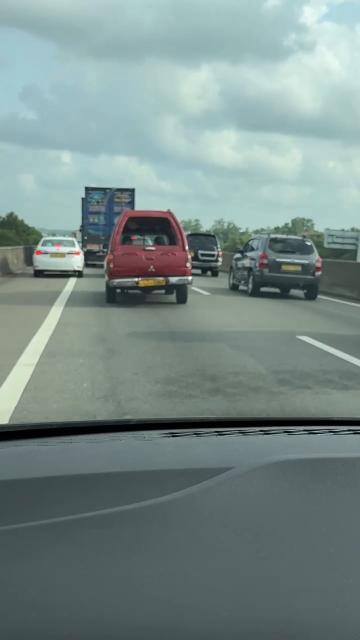illegal overtaking: (35, 234, 86, 281)
